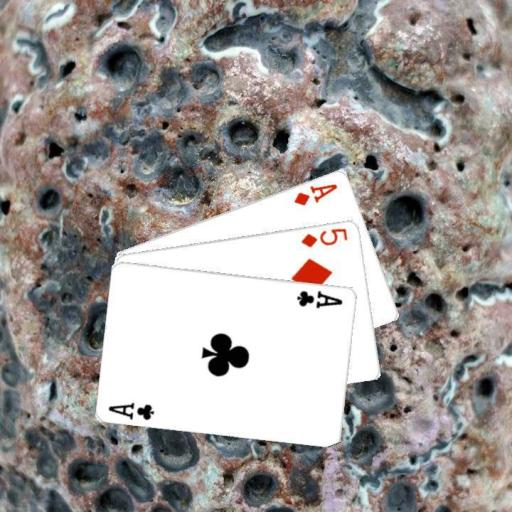card-corner: (291, 180, 339, 207), (298, 224, 349, 249), (294, 286, 344, 310), (106, 398, 156, 421)
